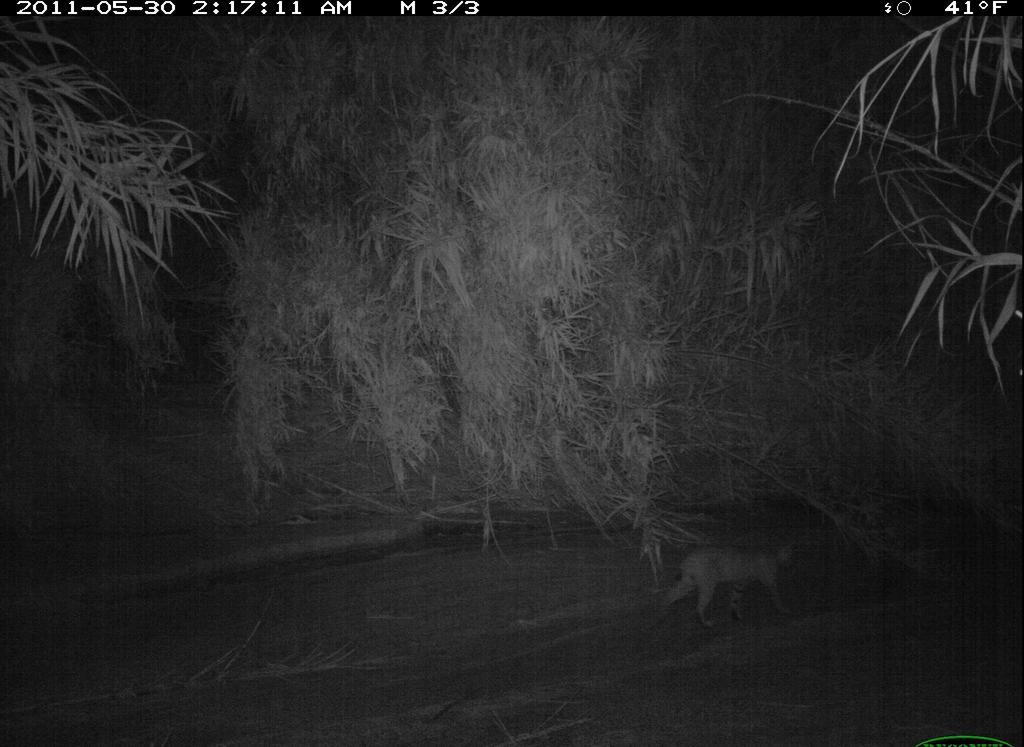bobcat: (658, 525, 799, 642)
